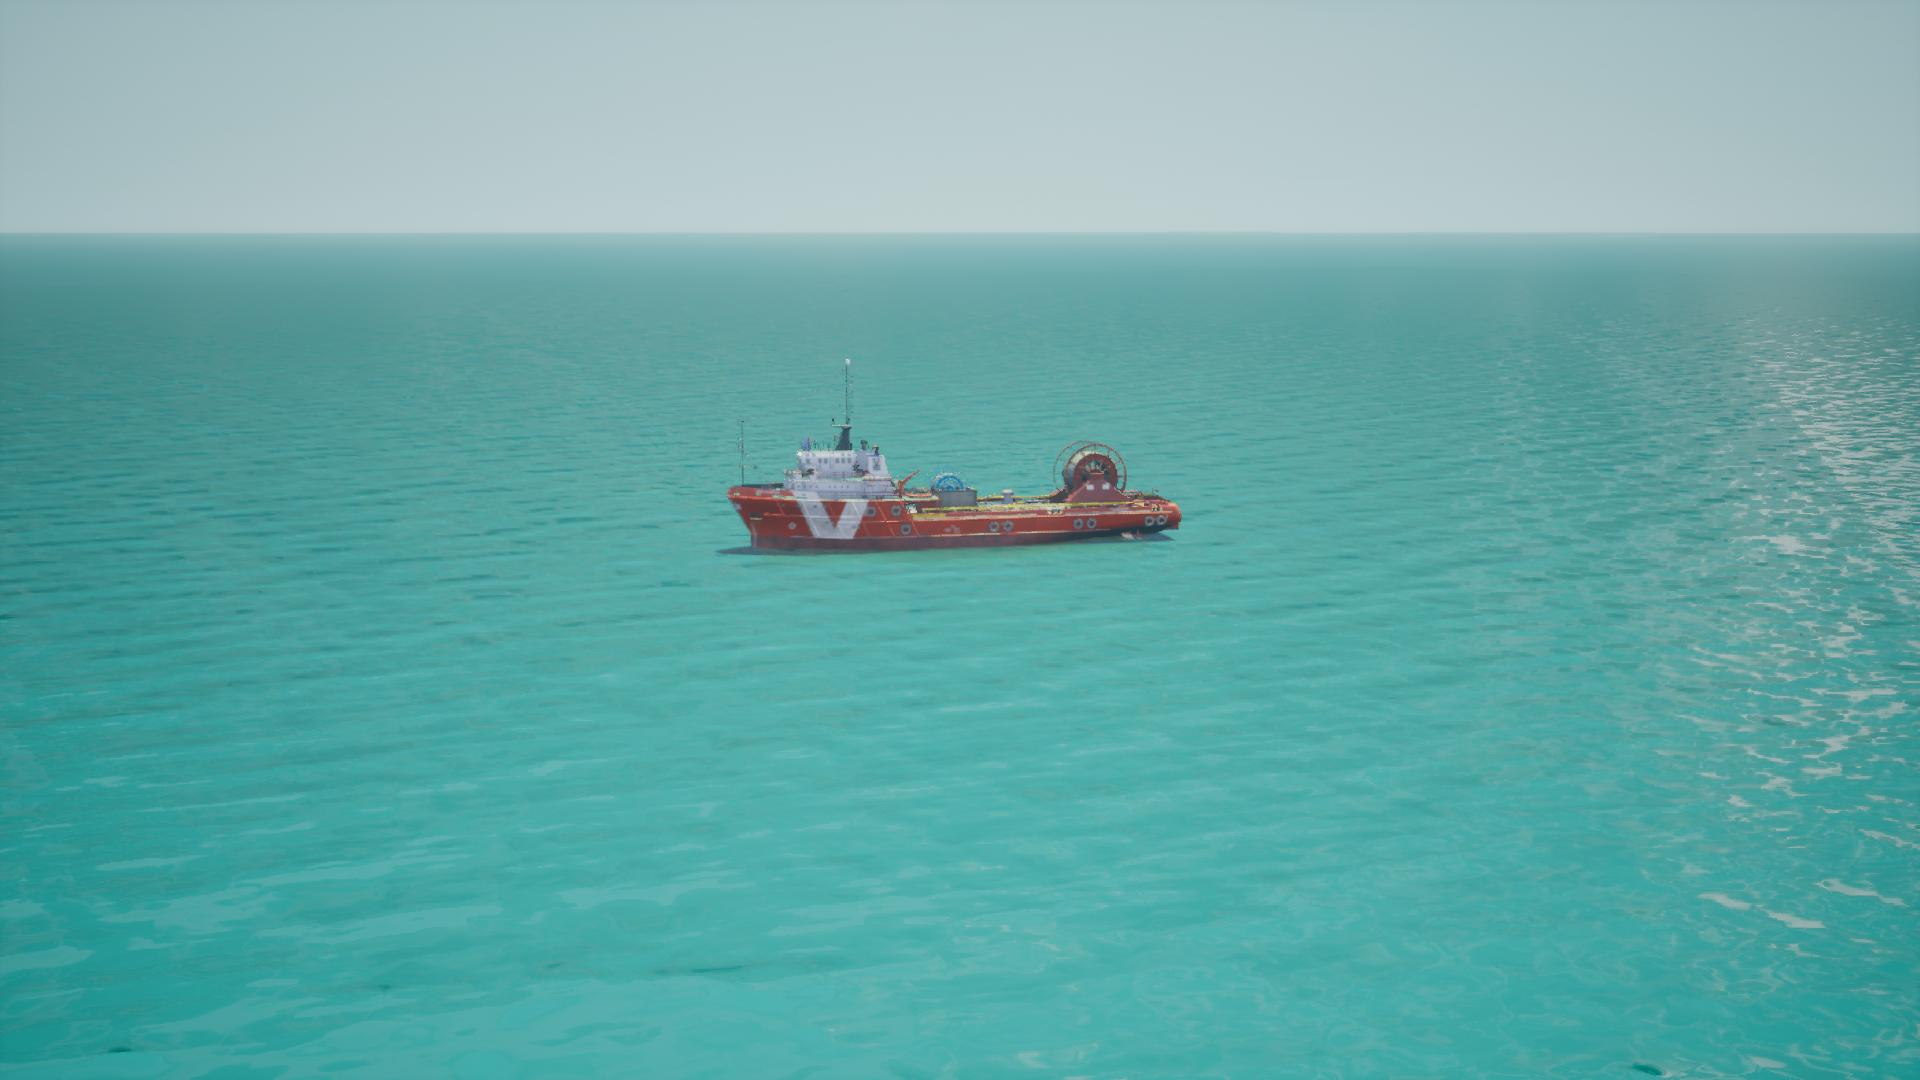Tug Boat: (718, 359, 1179, 558)
